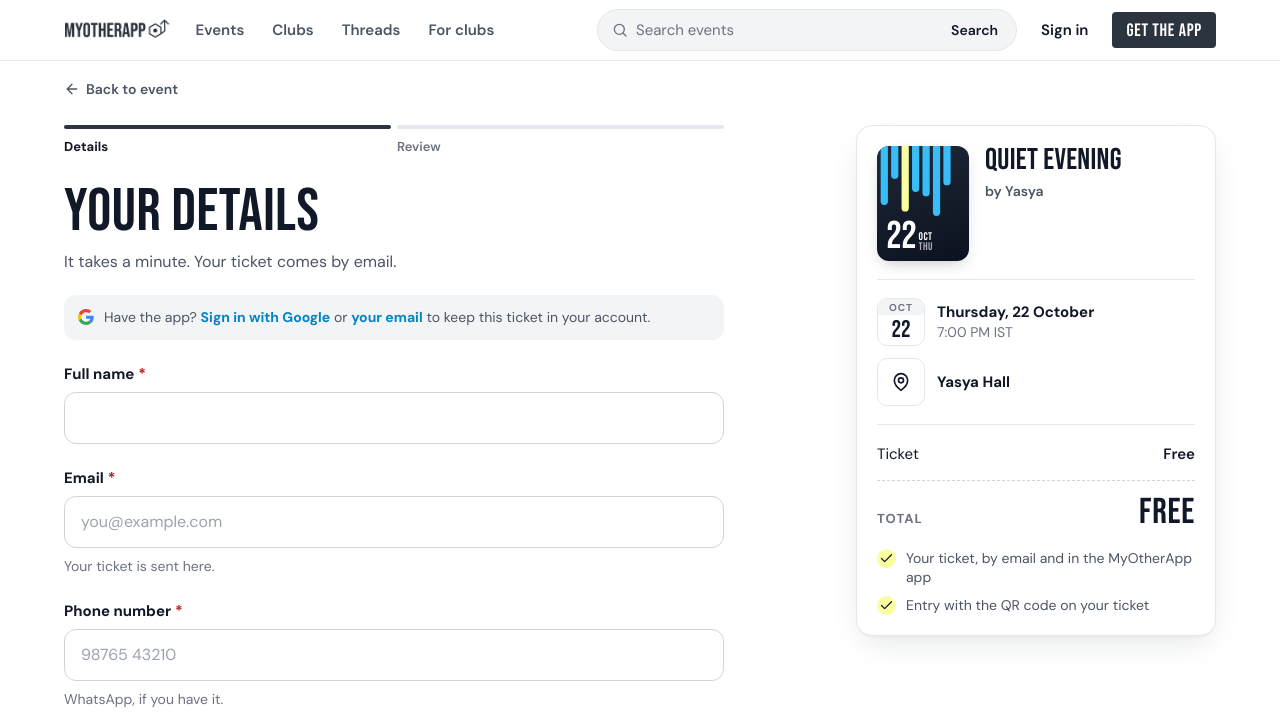
registering signed out, with sign-in on › signing in part-way fills in the account's email and keeps what was typed
Type "Asha R" into the field labelled "Full name*". click: point(394, 418)
box: x1=64 y1=392 x2=724 y2=444
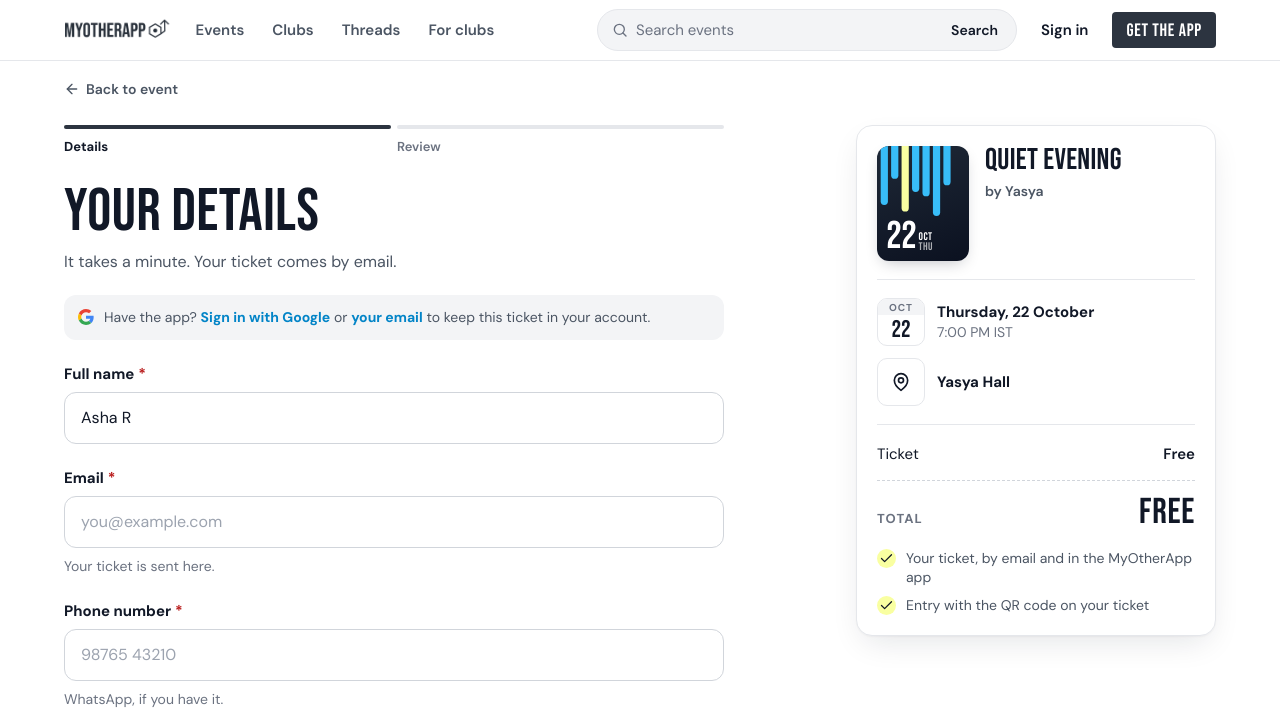
Type "old@example.org" into the field labelled "Email*". click: point(394, 522)
box: x1=64 y1=496 x2=724 y2=548
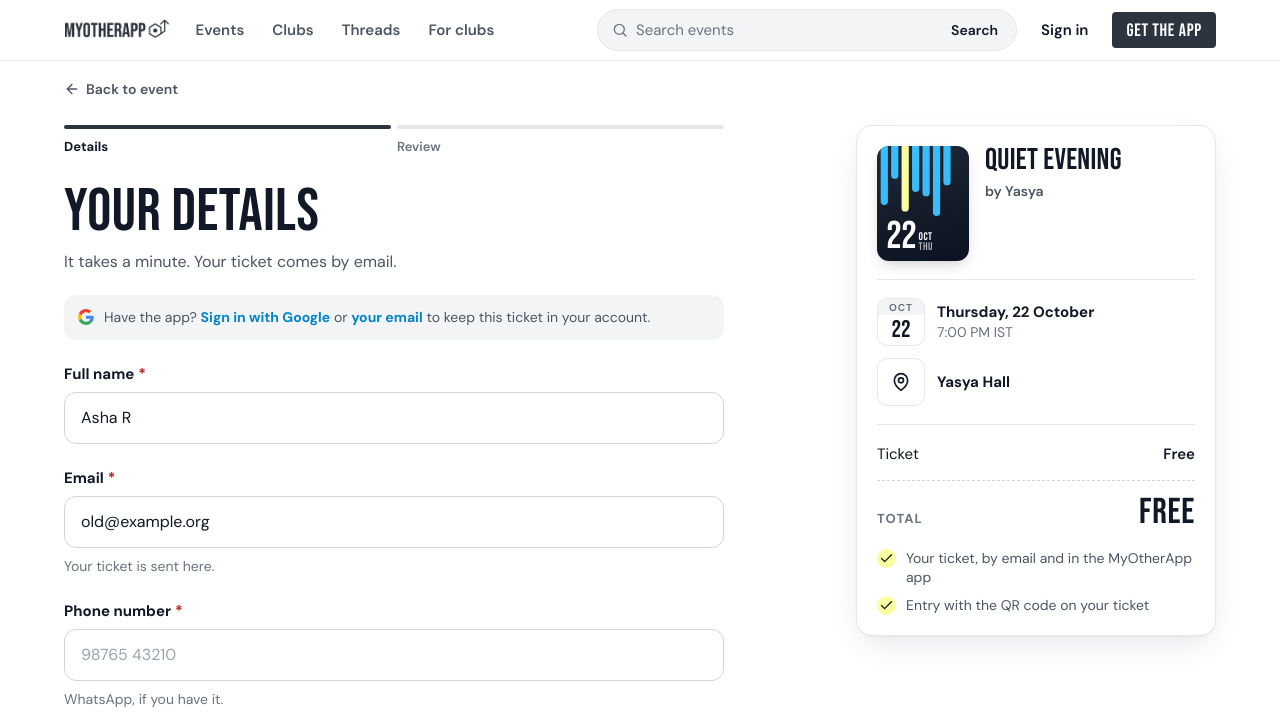
Click the button "Sign in with Google". click: point(265, 318)
box: x1=201 y1=307 x2=330 y2=328
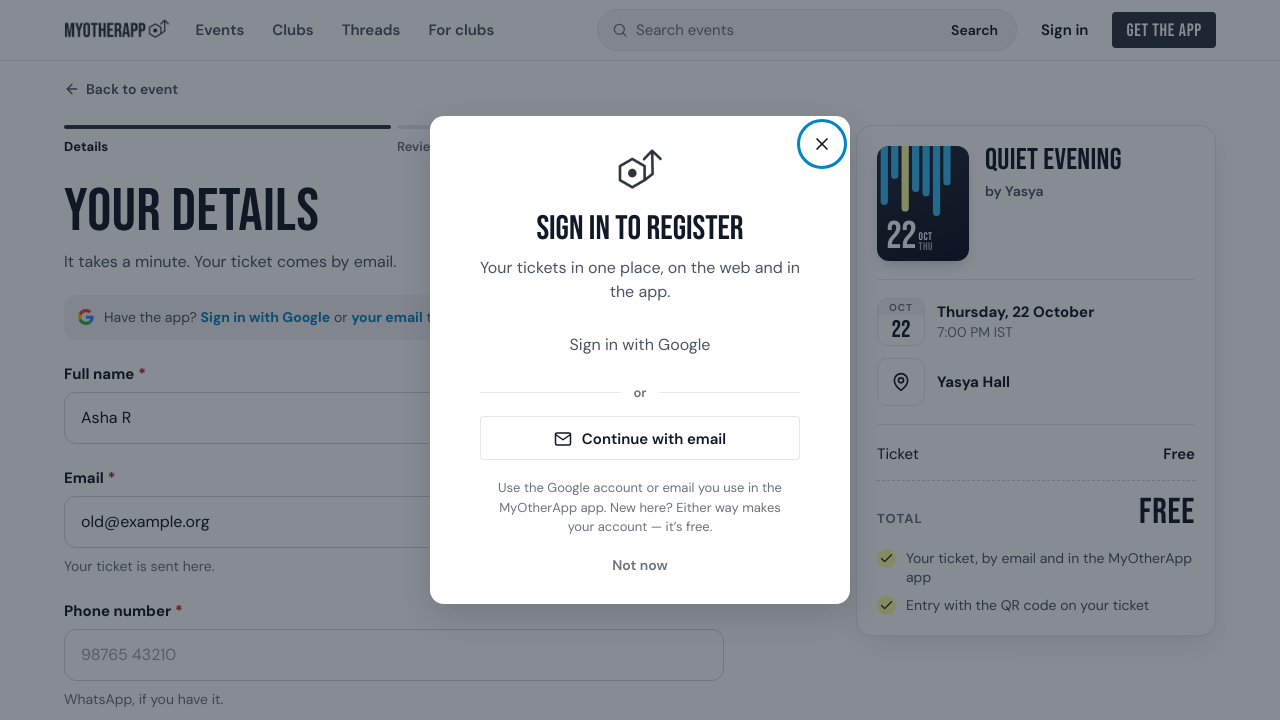
Click the button "Sign in with Google". click: point(640, 345)
box: x1=570 y1=323 x2=710 y2=367
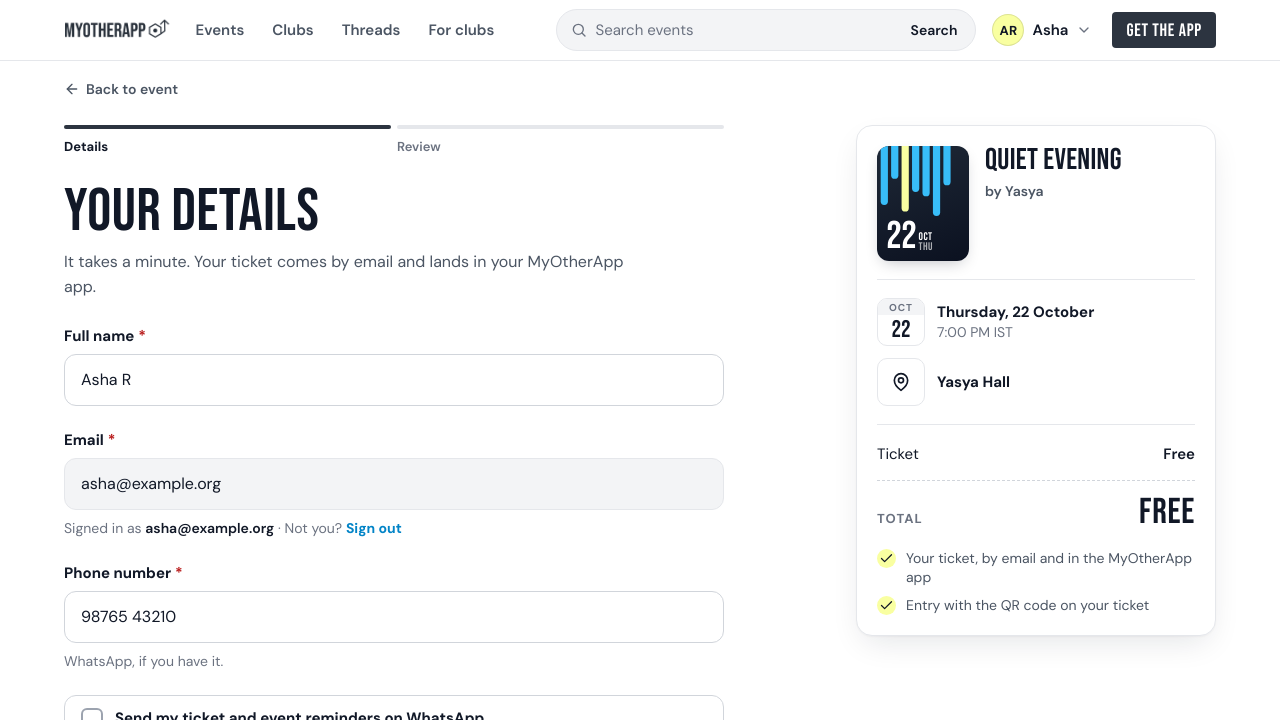
Now the field labelled "Email*" holds "asha@example.org", box x1=64 y1=458 x2=724 y2=510
Now the field labelled "Phone number*" holds "98765 43210", box x1=64 y1=591 x2=724 y2=643
Now the text "Have the app?" is gone
